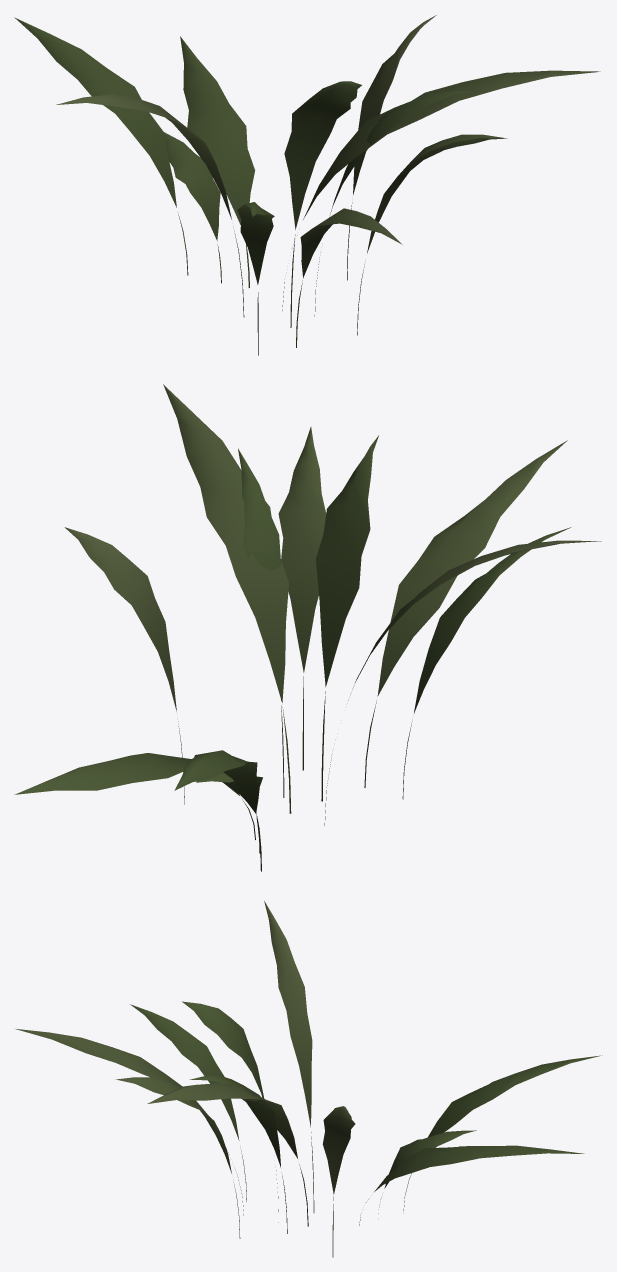
The model's file is grass_broadleaf.glb.
3 views of the same model, one above another, from view 1: azimuth 30°, elevation 25°; view 2: azimuth 150°, elevation 25°; view 3: azimuth 270°, elevation 25° (orthographic). The views are drawn at different scales.
Parts seen in each view (by area): view 1: grass_broadleaf; view 2: grass_broadleaf; view 3: grass_broadleaf.
Part boxes in pixels (x1,y1,x2,y2): grass_broadleaf: (14,15,600,355); grass_broadleaf: (14,384,601,871); grass_broadleaf: (16,901,602,1257).
Bounding box in the file's own units: 0.2847 × 0.1662 × 0.3888.
